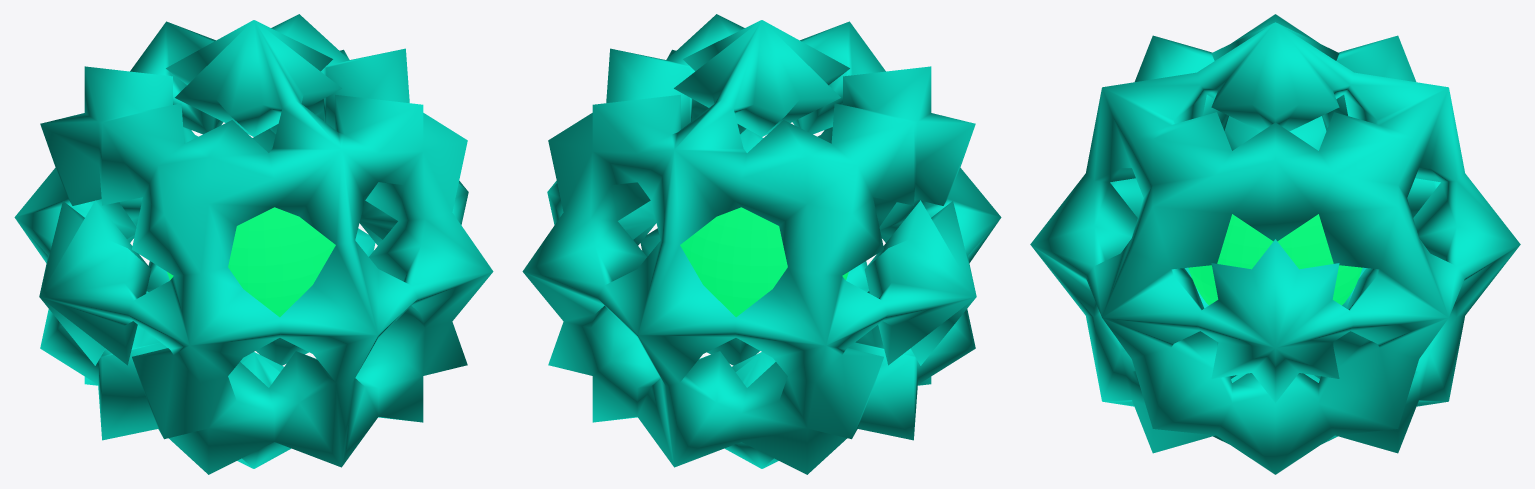
Rendered from PowerUp.glb.
The picture shows the model from 3 angles, left to right: view 1: azimuth 30°, elevation 25°; view 2: azimuth 150°, elevation 25°; view 3: azimuth 270°, elevation 25°; orthographic projection.
Visible parts, largest first — view 1: Sphere; view 2: Sphere; view 3: Sphere.
Part boxes in pixels (x1,y1,x2,y2): Sphere: [14, 14, 493, 474]; Sphere: [522, 14, 1001, 474]; Sphere: [1030, 14, 1520, 474].
Size of the model in its own units: 5.41 by 5.41 by 5.41.
